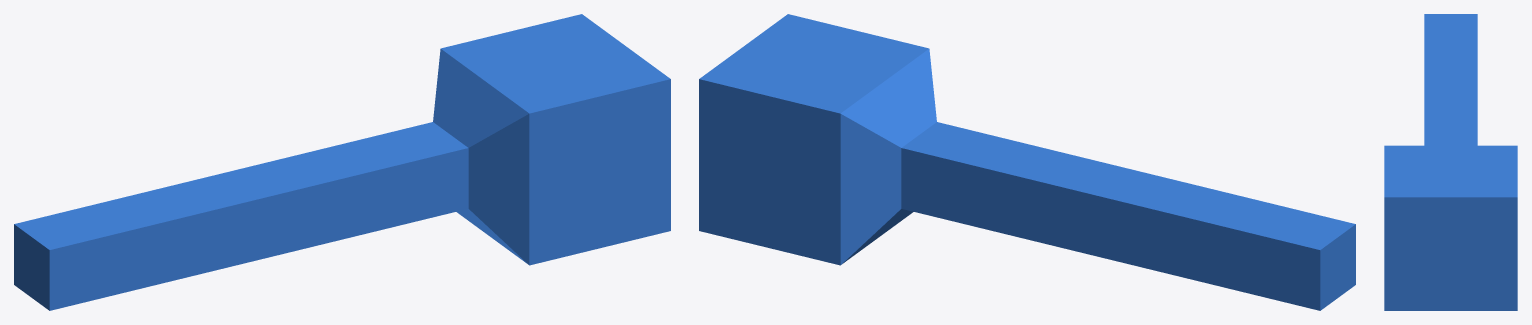
The model's file is Roteador_GrayBox_Cable.gltf.
The picture shows the model from 3 angles, left to right: view 1: azimuth 30°, elevation 25°; view 2: azimuth 150°, elevation 25°; view 3: azimuth 270°, elevation 25°; orthographic projection. The views are drawn at different scales.
Parts seen in each view (by area): view 1: Cable; view 2: Cable; view 3: Cable.
Part boxes in pixels (x1,y1,x2,y2): Cable: [14, 14, 670, 310]; Cable: [699, 14, 1355, 310]; Cable: [1384, 14, 1517, 310].
Bounding box in the file's own units: 0.0289 × 0.00707 × 0.0075.
